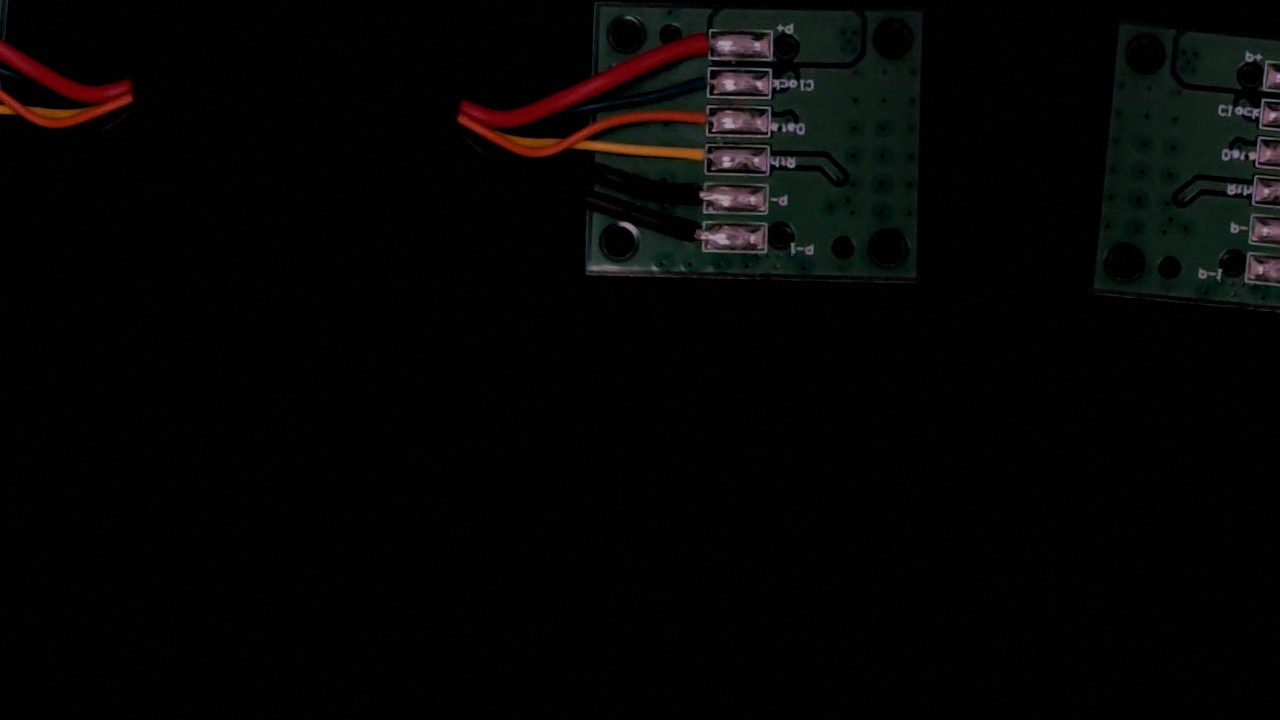Black: (647, 175, 722, 214)
Black1: (650, 217, 719, 254)
Green: (654, 62, 726, 101)
Orange: (651, 99, 725, 136)
Red: (656, 25, 728, 64)
Yellow: (646, 137, 722, 176)
